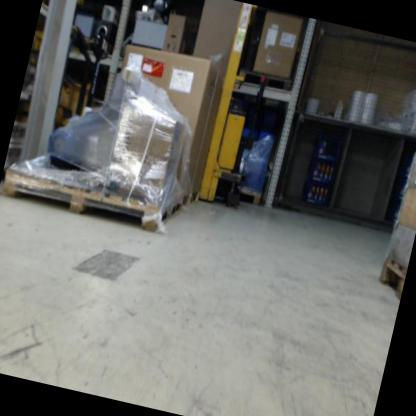pallet: (0, 160, 182, 239), (373, 256, 409, 303), (237, 68, 294, 94), (176, 185, 200, 216), (232, 187, 261, 209)
pallet_truck: (195, 3, 283, 212), (68, 17, 119, 126)
